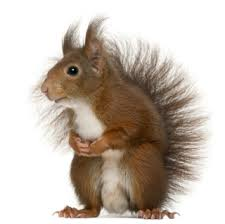Ardilla: (37, 19, 193, 224)
